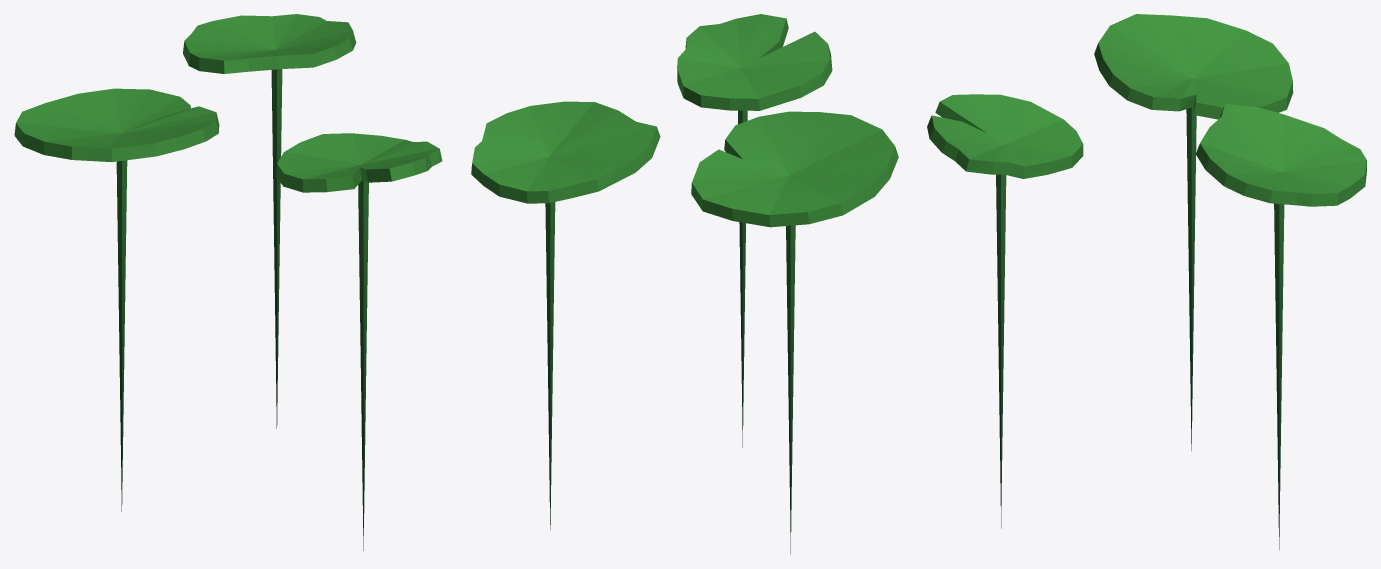
File: ZLP_Grass_E_3.FBX
3 renders of one model, left to right at view 1: azimuth 30°, elevation 25°; view 2: azimuth 150°, elevation 25°; view 3: azimuth 270°, elevation 25°, orthographic.
Parts seen in each view (by area): view 1: ZLP_Grass_E_3; view 2: ZLP_Grass_E_3; view 3: ZLP_Grass_E_3.
Part boxes in pixels (<box>): ZLP_Grass_E_3: <box>14,14,442,550</box>; ZLP_Grass_E_3: <box>471,14,898,554</box>; ZLP_Grass_E_3: <box>927,14,1366,549</box>.
Bounding box in the file's own units: 112 × 123 × 119.
